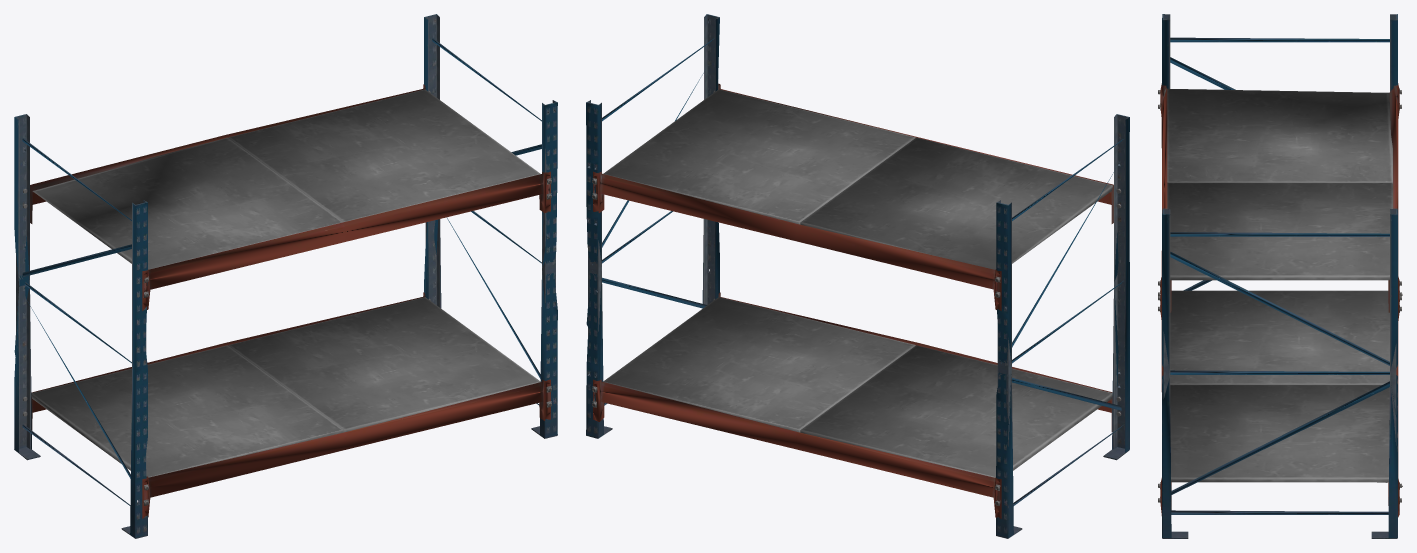
File: rack.glb
3 views of the same model, side by side, from view 1: azimuth 30°, elevation 25°; view 2: azimuth 150°, elevation 25°; view 3: azimuth 270°, elevation 25° (orthographic). The views are drawn at different scales.
Parts seen in each view (by area): view 1: body; view 2: body; view 3: body.
Part boxes in pixels (box(x1,y1,x2,y2)): body: box(14, 14, 557, 538); body: box(586, 14, 1129, 538); body: box(1158, 14, 1402, 538).
Size of the model in its own units: 4 by 3.01 by 2.06.
3 materials, 3 textured.
